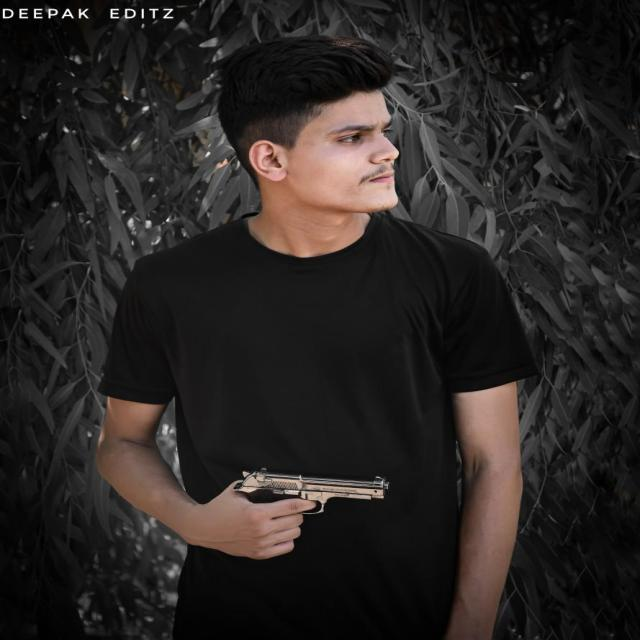weapon: (224, 462, 393, 559)
